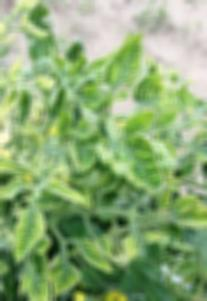Tomato leaf mosaic virus: (104, 31, 147, 91), (12, 204, 47, 264), (125, 149, 163, 188), (134, 74, 165, 106), (120, 112, 157, 136)
